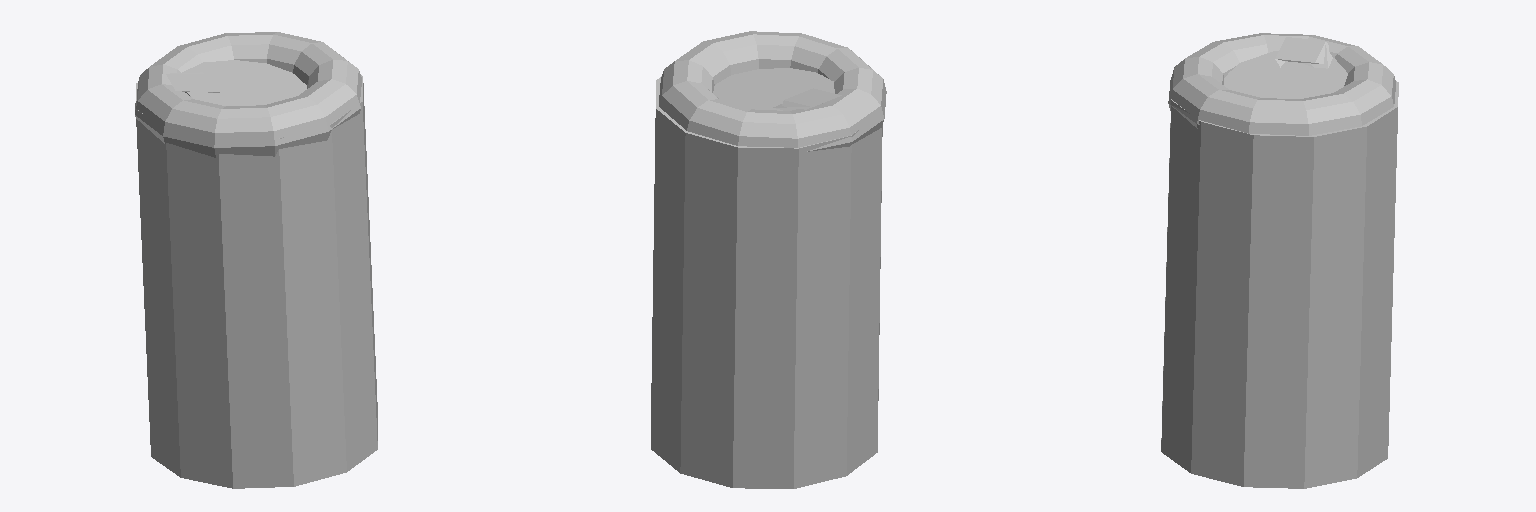
Rendered from sodacan.obj.
3 renders of one model, left to right at view 1: azimuth 30°, elevation 25°; view 2: azimuth 150°, elevation 25°; view 3: azimuth 270°, elevation 25°, orthographic.
Visible parts, largest first — view 1: group[number redacted], group[number redacted], group[number redacted], group[number redacted]; view 2: group[number redacted], group[number redacted], group[number redacted], group[number redacted]; view 3: group[number redacted], group[number redacted], group[number redacted], group[number redacted].
Part boxes in pixels (left/top/right/bottom): group[number redacted]: left=136, top=75, right=377, bottom=488; group[number redacted]: left=135, top=32, right=361, bottom=157; group[number redacted]: left=182, top=60, right=306, bottom=105; group[number redacted]: left=166, top=72, right=219, bottom=92; group[number redacted]: left=651, top=76, right=882, bottom=488; group[number redacted]: left=659, top=31, right=886, bottom=151; group[number redacted]: left=713, top=68, right=834, bottom=110; group[number redacted]: left=773, top=88, right=841, bottom=110; group[number redacted]: left=1161, top=81, right=1398, bottom=488; group[number redacted]: left=1168, top=33, right=1395, bottom=135; group[number redacted]: left=1224, top=51, right=1347, bottom=98; group[number redacted]: left=1275, top=37, right=1332, bottom=68.
Size of the model in its own units: 0.0823 by 0.1416 by 0.0809.